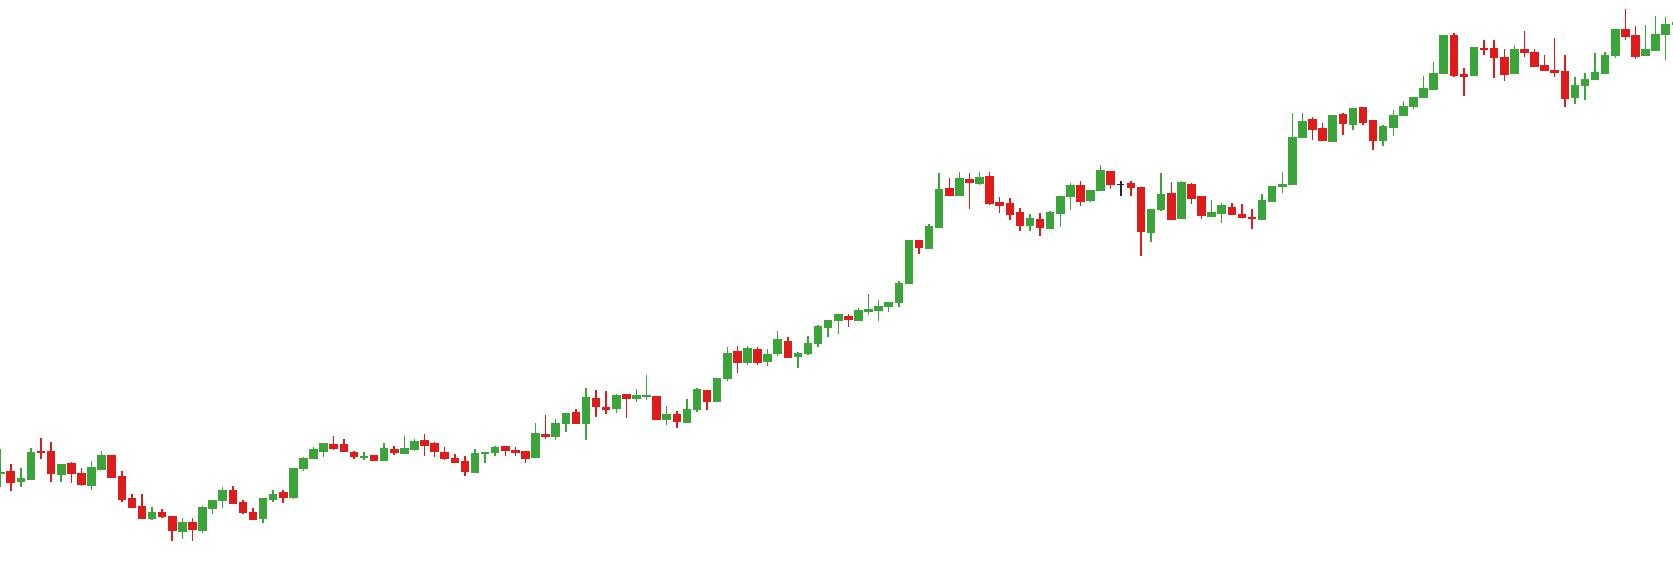buy: (1034, 186, 1157, 262), (1461, 45, 1581, 116)
